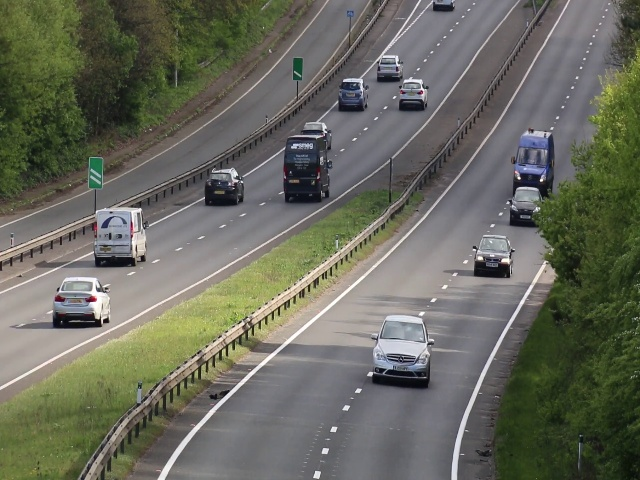car: (368, 315, 432, 384), (92, 209, 149, 266), (285, 135, 331, 200), (54, 278, 109, 325), (513, 135, 553, 184), (203, 165, 246, 205), (475, 232, 512, 276), (509, 188, 542, 224), (338, 76, 368, 112), (399, 80, 428, 108), (377, 54, 403, 80), (301, 119, 327, 133)
